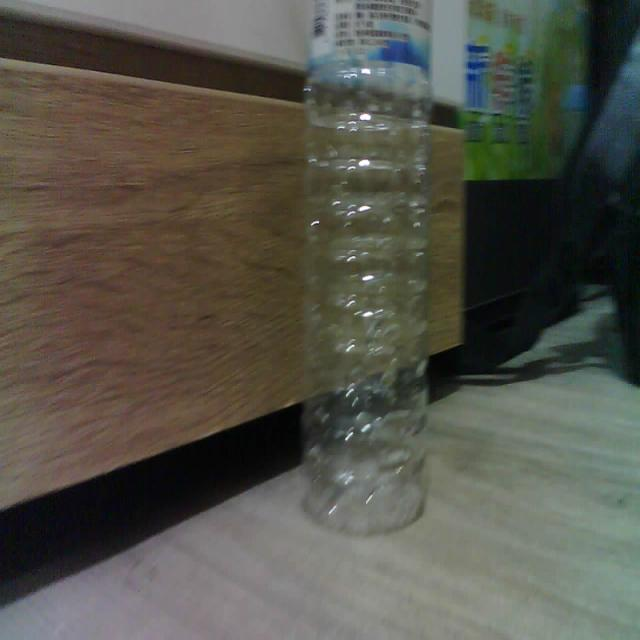bottle: (303, 0, 431, 532)
